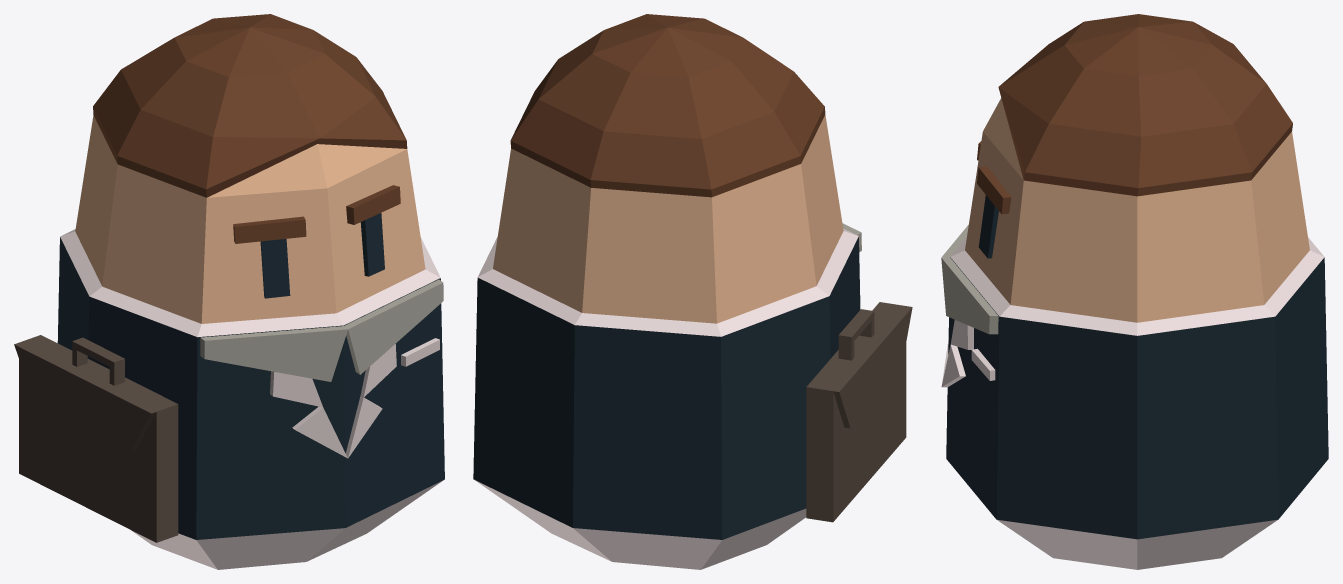
File: SalaryMan.fbx
The picture shows the model from 3 angles, left to right: view 1: azimuth 30°, elevation 25°; view 2: azimuth 150°, elevation 25°; view 3: azimuth 270°, elevation 25°; orthographic projection.
Visible parts, largest first — view 1: SalaryMan; view 2: SalaryMan; view 3: SalaryMan.
Boxes of the visible parts, <box> form: SalaryMan: <box>14,14,444,569</box>; SalaryMan: <box>473,14,912,569</box>; SalaryMan: <box>941,14,1328,569</box>.
Size of the model in its own units: 56.67 by 51.47 by 76.04.
